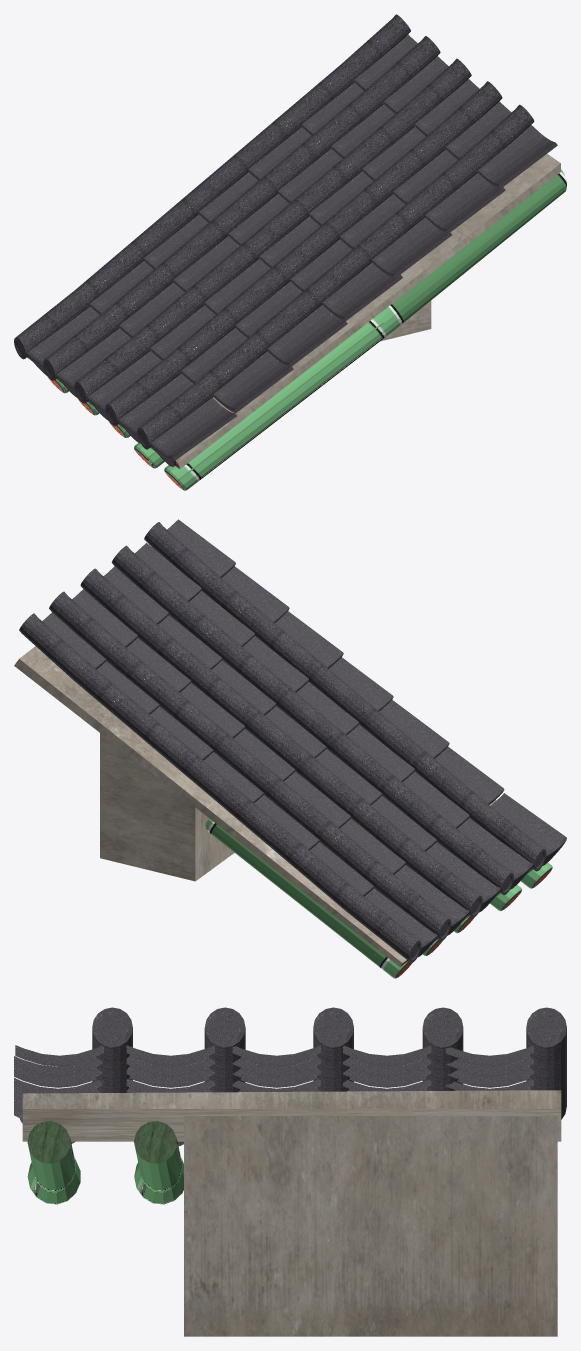
The model's file is SM_Roof_38.fbx.
The picture shows the model from 3 angles, top to bottom: view 1: azimuth 30°, elevation 25°; view 2: azimuth 150°, elevation 25°; view 3: azimuth 270°, elevation 25°; orthographic projection. The views are drawn at different scales.
Visible parts, largest first — view 1: SM_Roof_38; view 2: SM_Roof_38; view 3: SM_Roof_38.
Part boxes in pixels (x1=…): SM_Roof_38: x1=14, y1=14, x2=566, y2=490; SM_Roof_38: x1=14, y1=519, x2=566, y2=978; SM_Roof_38: x1=14, y1=1007, x2=566, y2=1336.
Size of the model in its own units: 407 by 276 by 276.
5 materials, 5 textured.
